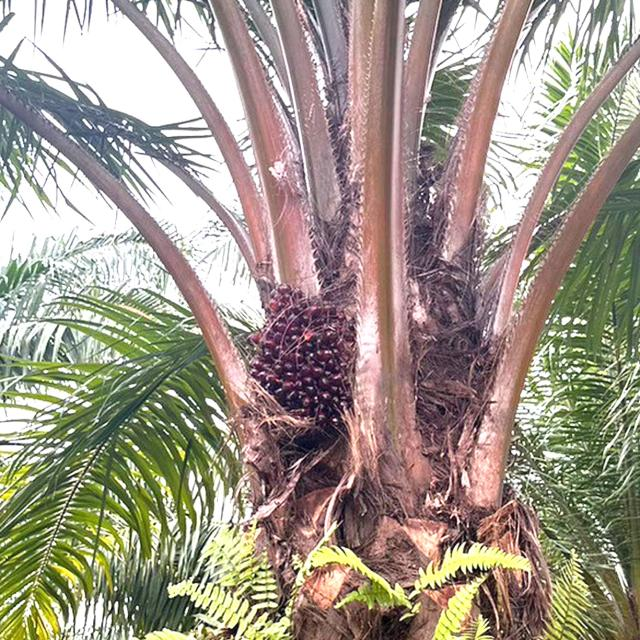ripe: (240, 267, 360, 432)
